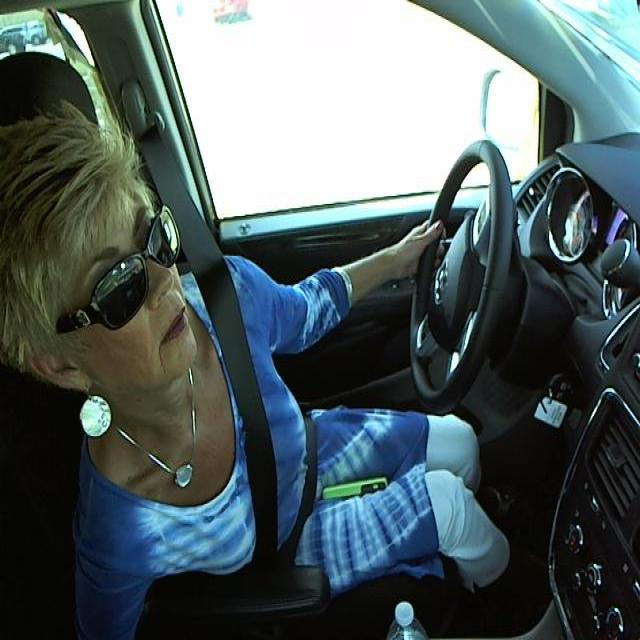seatbelt: (178, 262, 324, 558)
